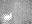person: (4, 15, 11, 22)
